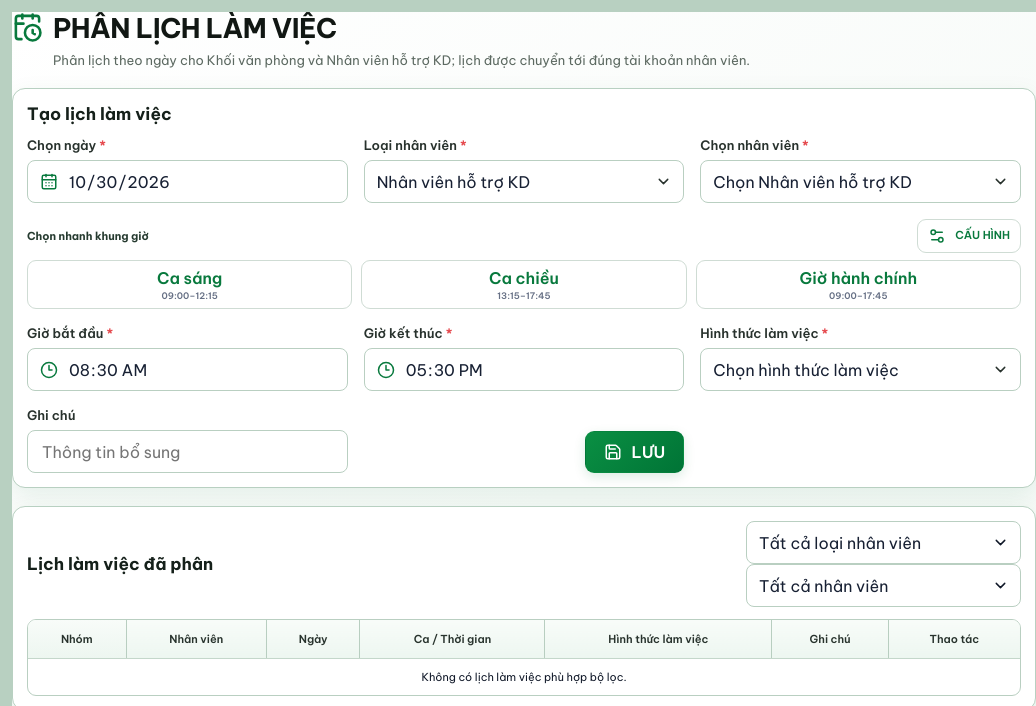
Test case: BusinessSupportSchedulePage › loads persisted quick periods and lets an authorized account save a shared configuration
Click the button with aria-label "Chọn nhanh Ca sáng" at (190, 285), box [27, 260, 352, 309]
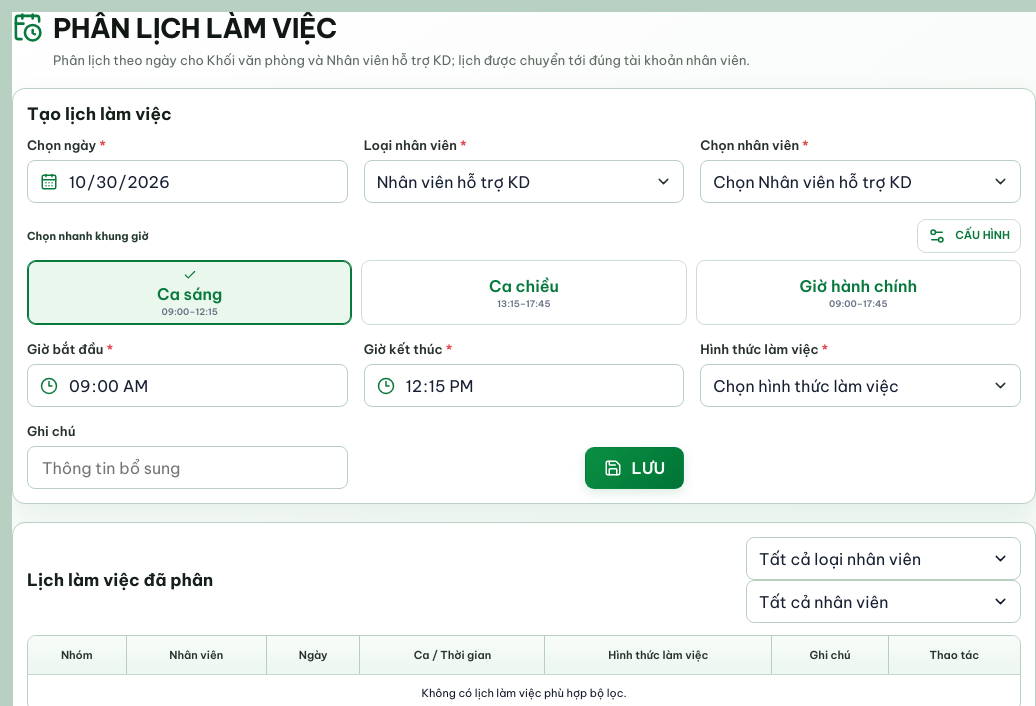
Expected: the time field labelled "Giờ bắt đầu *" holds "09:00", [67, 365, 335, 406]
Expected: the time field labelled "Giờ kết thúc *" holds "12:15", [404, 365, 671, 406]
Click the button "CẤU HÌNH" at (969, 236), box [917, 219, 1021, 253]
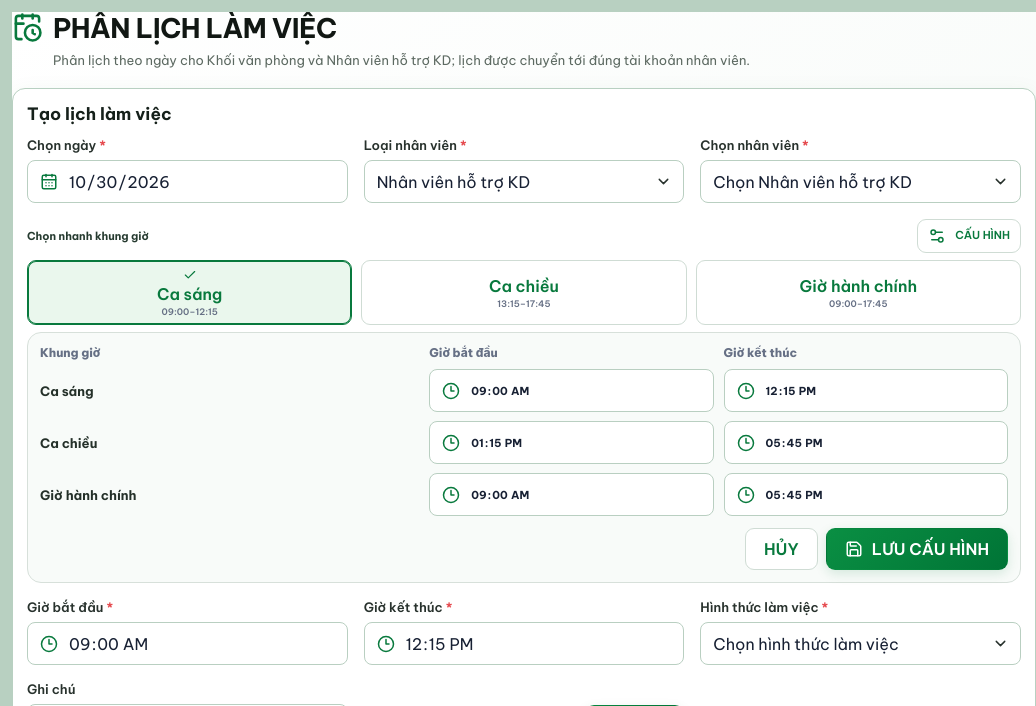
Replace the text in the time field named "Giờ bắt đầu Ca sáng" with "08:45" at (585, 391), box [469, 370, 701, 411]
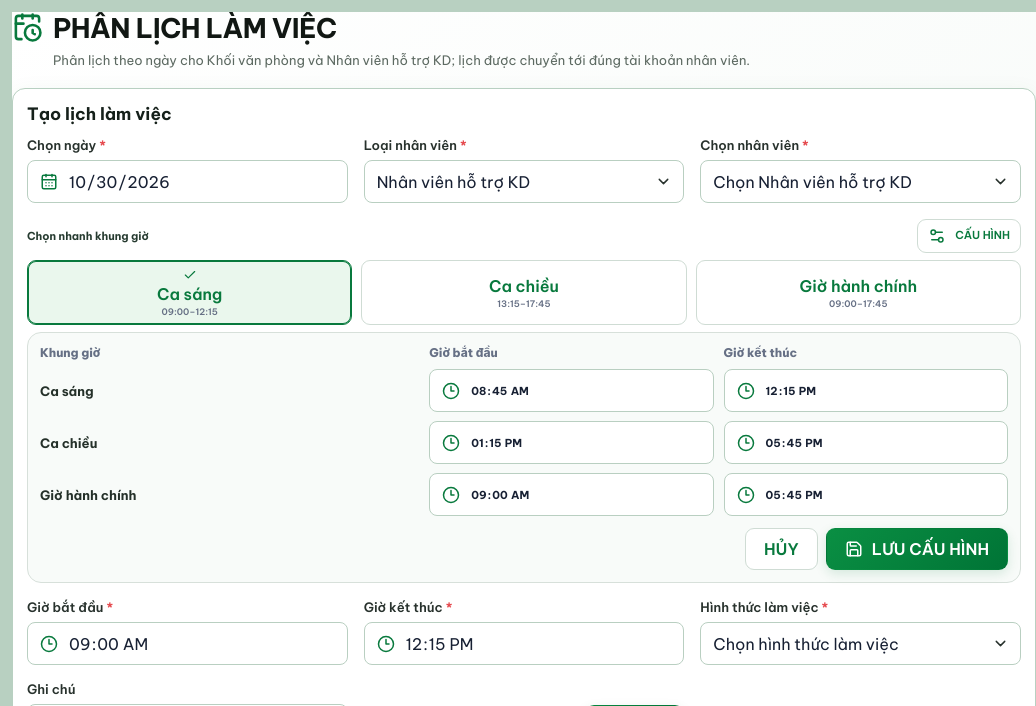
Replace the text in the time field named "Giờ kết thúc Giờ hành chính" with "18:00" at (879, 495), box [764, 474, 995, 515]
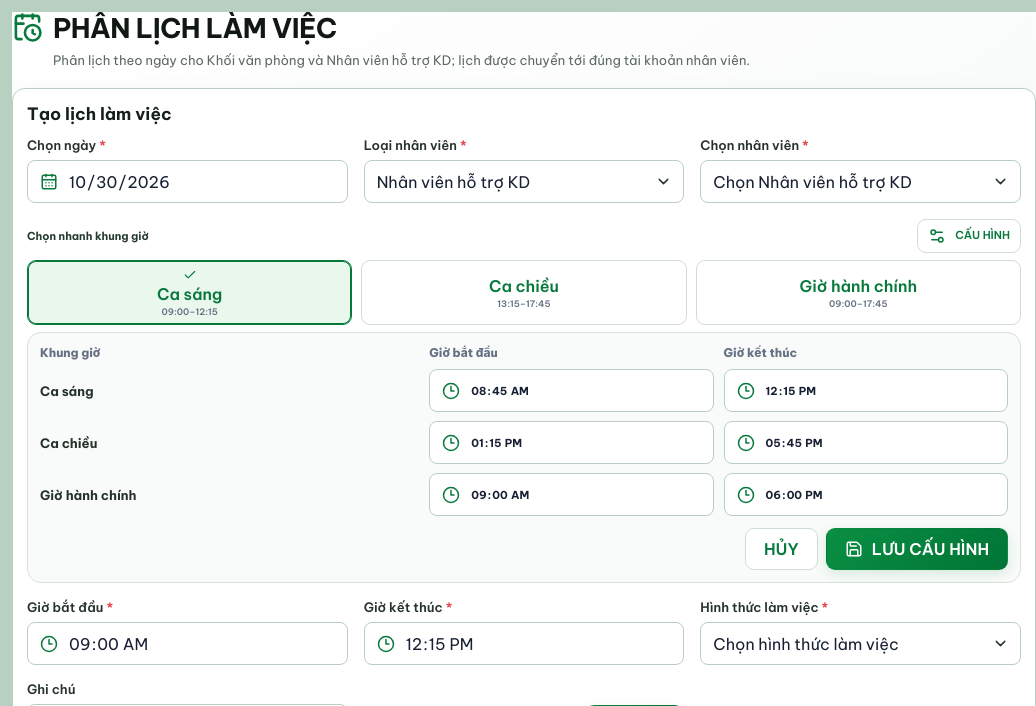
Click the button "LƯU CẤU HÌNH" at (917, 549), box [826, 528, 1008, 570]
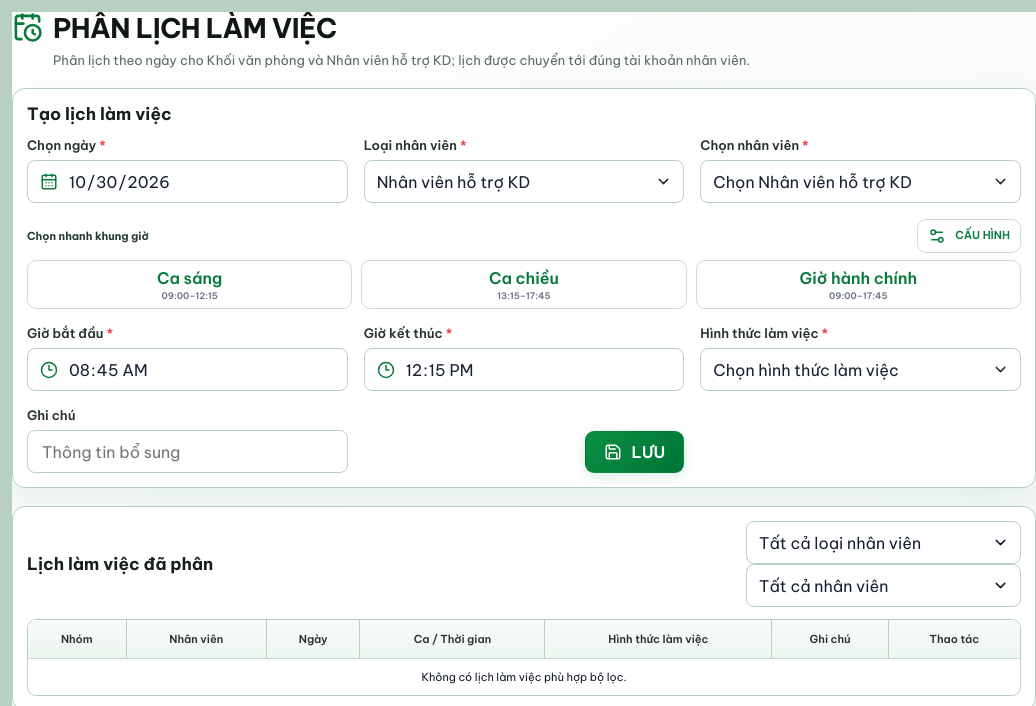
Expected: the time field labelled "Giờ bắt đầu *" holds "08:45", [67, 349, 335, 390]
